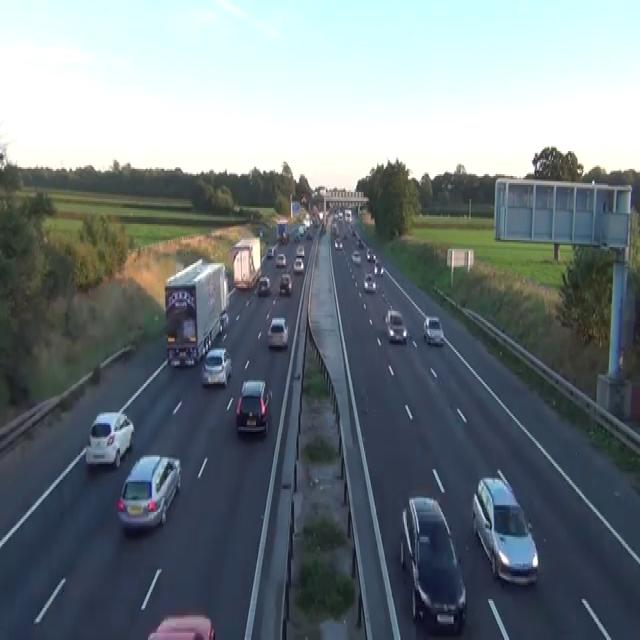Car: (399, 496, 467, 633), (471, 473, 539, 585), (116, 454, 181, 532), (399, 496, 452, 572), (85, 410, 134, 468), (235, 378, 272, 436), (147, 614, 215, 638), (166, 315, 196, 366), (201, 347, 232, 388), (384, 309, 407, 343), (267, 316, 288, 348), (422, 315, 444, 345), (256, 275, 270, 297), (279, 272, 292, 295), (363, 272, 376, 292), (219, 308, 229, 332), (293, 258, 304, 274), (275, 252, 286, 266), (266, 244, 277, 258), (351, 249, 361, 263), (366, 247, 376, 261), (373, 262, 383, 276), (441, 180, 455, 190), (0, 147, 6, 169), (280, 231, 288, 244), (334, 238, 343, 249), (331, 222, 338, 236), (296, 244, 304, 256), (245, 295, 253, 306), (336, 208, 343, 220), (373, 260, 379, 274), (266, 247, 273, 258), (293, 231, 300, 242), (298, 224, 305, 235), (312, 215, 319, 226), (271, 244, 278, 254), (300, 194, 306, 204), (356, 238, 362, 247), (372, 252, 377, 262), (350, 228, 356, 236), (306, 231, 312, 238), (318, 210, 323, 218), (380, 266, 383, 276)
Truck: (163, 256, 228, 368), (229, 236, 261, 290), (276, 218, 288, 244), (344, 208, 352, 222)
